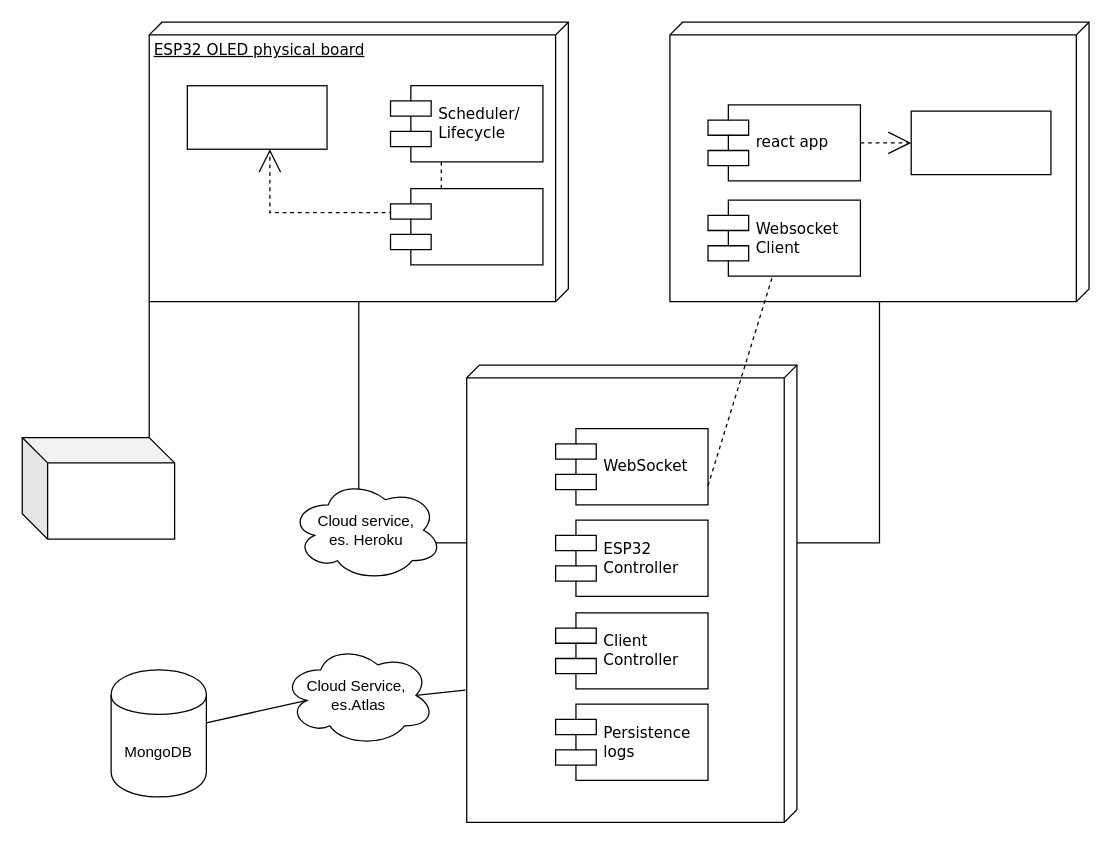
Some shapes in this 1111 by 845 pixel diagram are drawn without their labels. The shapes that lost their labels are listed below. From the top down, each one's box as (x1, y1, x2, y2) in pixels, then its label:
(186, 84, 327, 149): Growroom
(669, 21, 1089, 302): Microgrowl-react
(910, 110, 1051, 175): User Interface
(389, 187, 543, 265): Devices and sensors drivers
(21, 436, 175, 539): NTP Server
(465, 364, 797, 822): Microgrowl-spring
